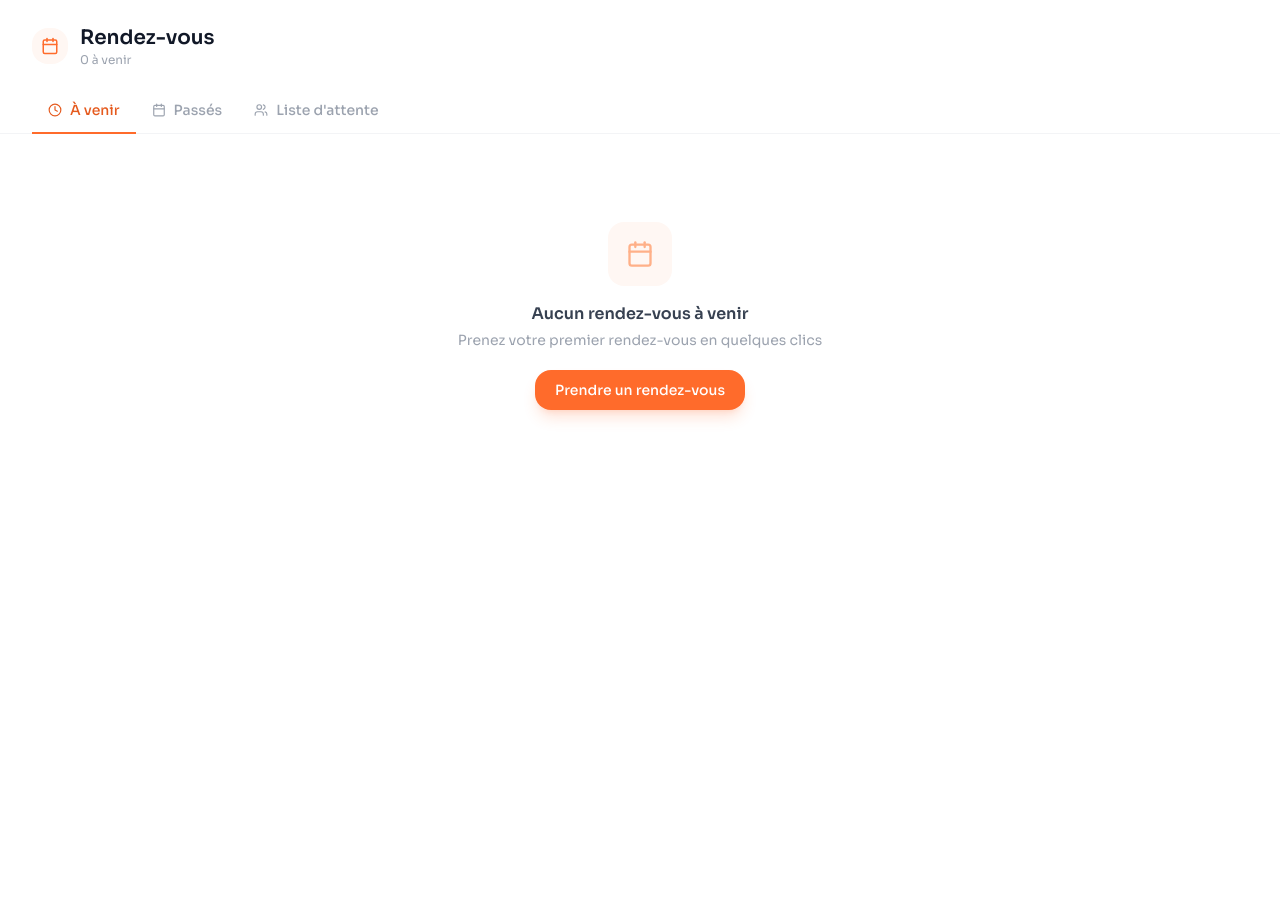
Test: AppointmentsPage › inscrit l'utilisateur sur la liste d'attente
Expected: the text "Aucun rendez-vous à venir" is shown, [532,303,748,324]
Click the button "Liste d'attente".
click(316, 111)  # box [238,88,395,134]
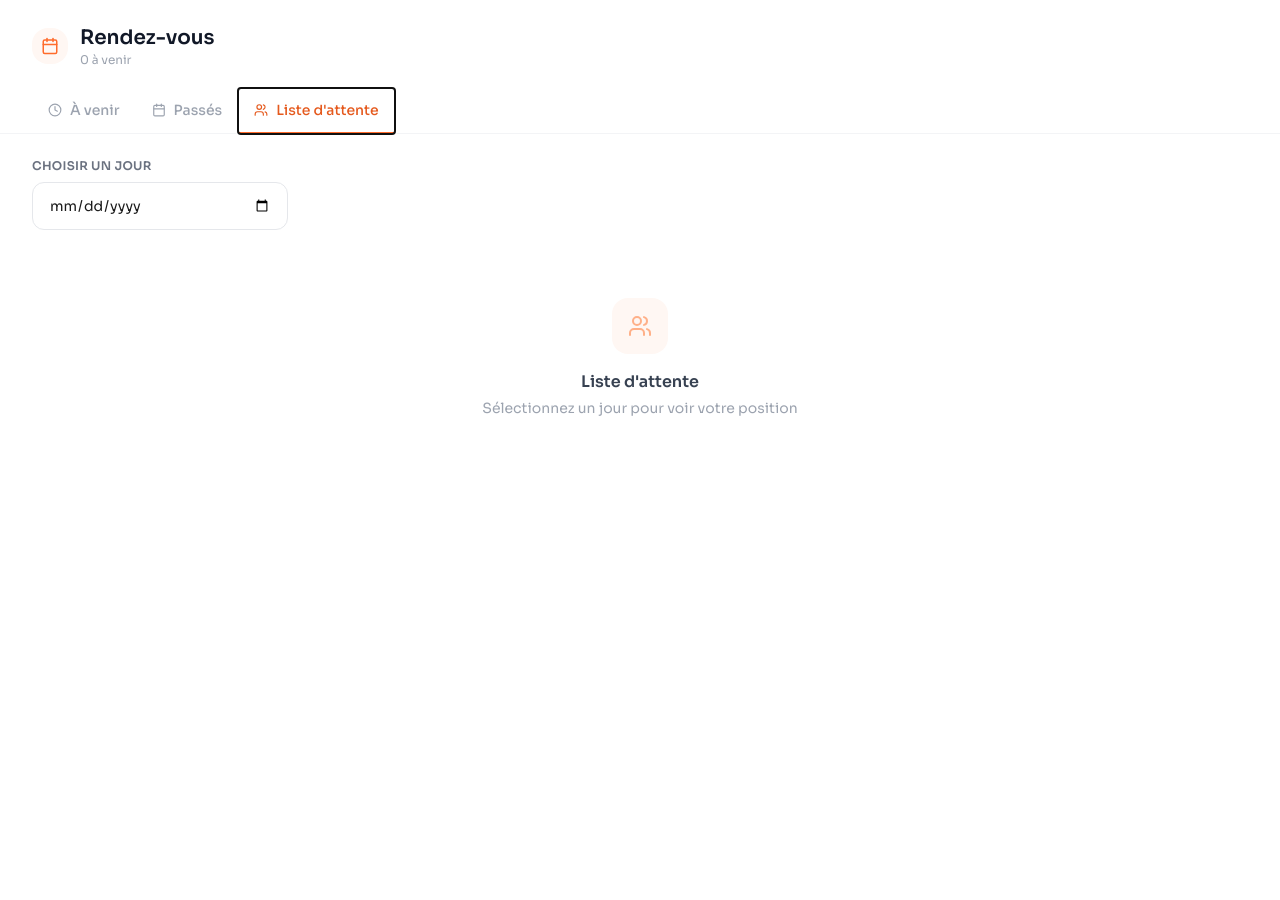
Type "2030-01-15" into the date field.
click(160, 206); type("2030-01-15")  # box [32,182,288,230]
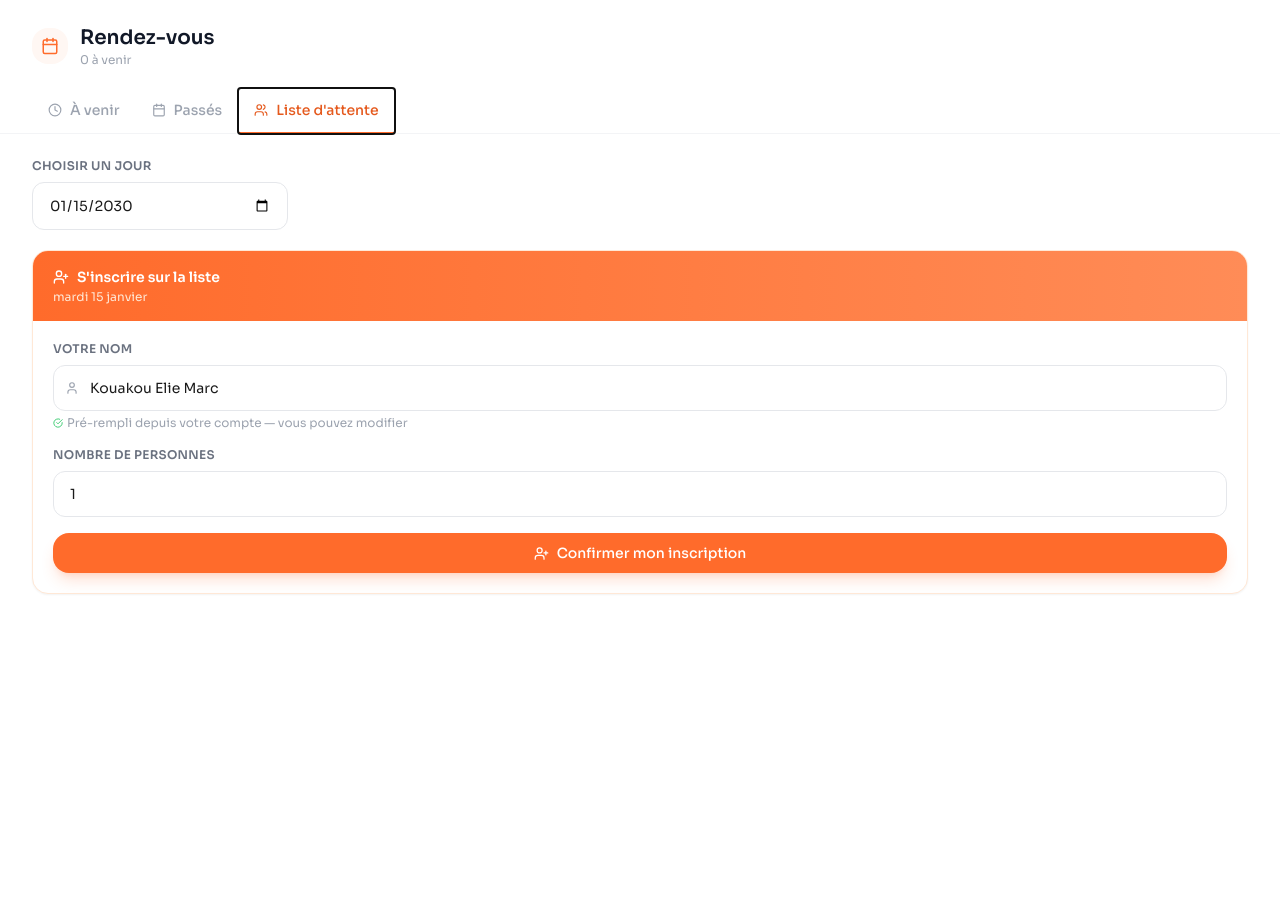
Click the button "Confirmer mon inscription".
click(640, 553)  # box [53,533,1227,573]
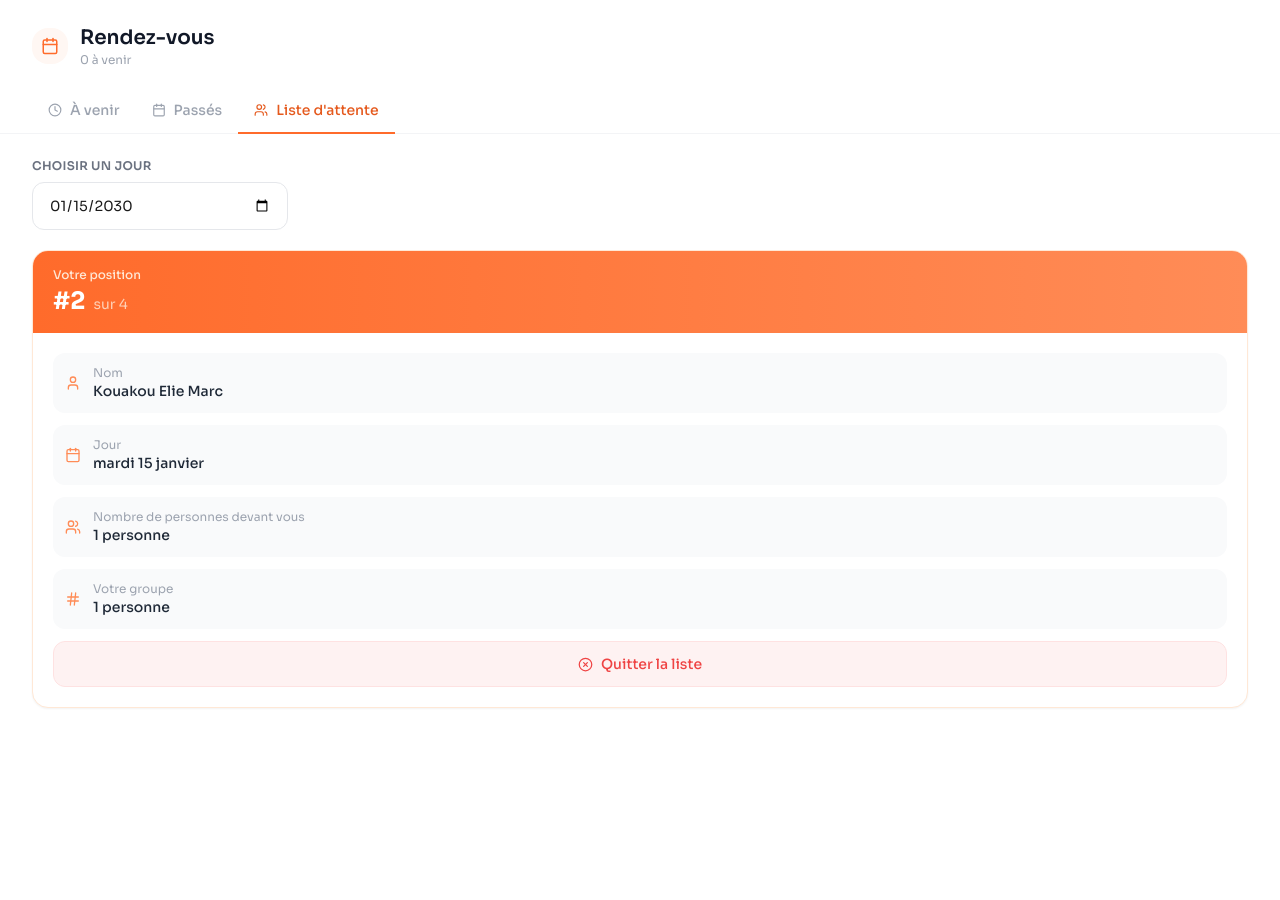
Expected: the text "#2" is shown, [53,286,128,316]
